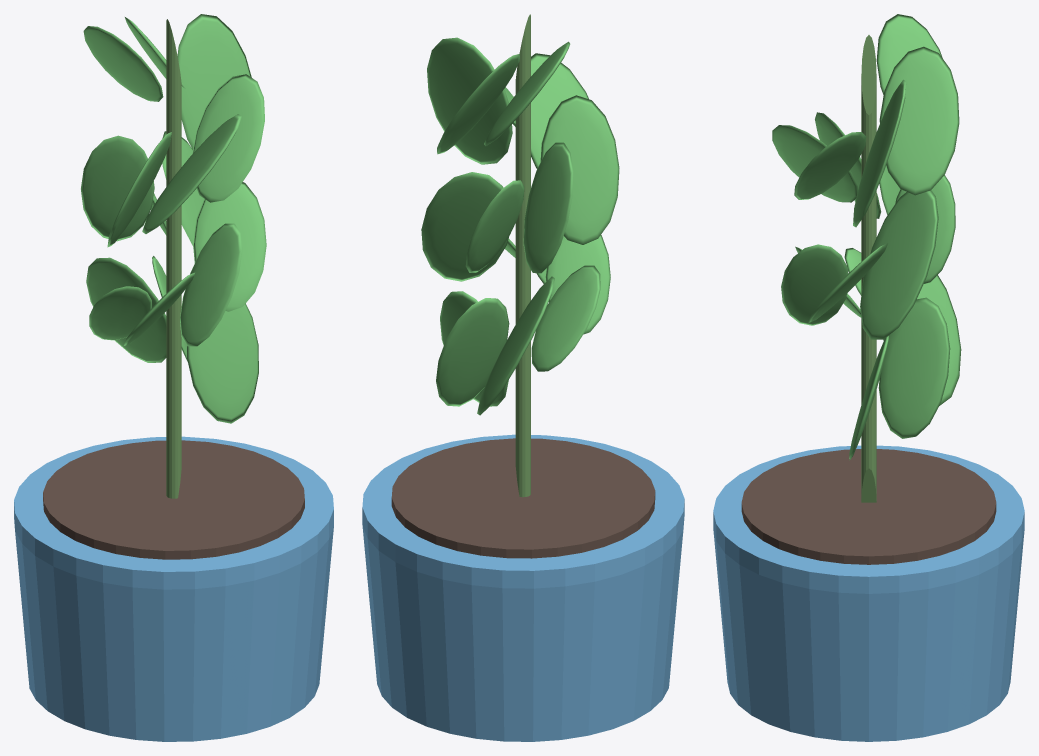
3 views of the same model, side by side, from view 1: azimuth 30°, elevation 25°; view 2: azimuth 150°, elevation 25°; view 3: azimuth 270°, elevation 25° (orthographic). The views are drawn at different scales.
Visible parts, largest first — view 1: Pot_Complete, Leaves, Soil, Stem; view 2: Pot_Complete, Leaves, Soil, Stem; view 3: Pot_Complete, Leaves, Soil, Stem.
Boxes of the visible parts, x1,y1,x2,y2 form: Pot_Complete: (14,436,333,741); Leaves: (81,14,266,423); Soil: (43,440,304,559); Stem: (166,19,181,498); Pot_Complete: (362,434,684,741); Leaves: (421,37,619,415); Soil: (391,438,655,558); Stem: (515,14,530,497); Pot_Complete: (713,445,1024,741); Leaves: (772,14,961,460); Soil: (741,449,996,564); Stem: (861,35,876,502).
Bounding box in the file's own units: 0.33 × 0.7533 × 0.33.
